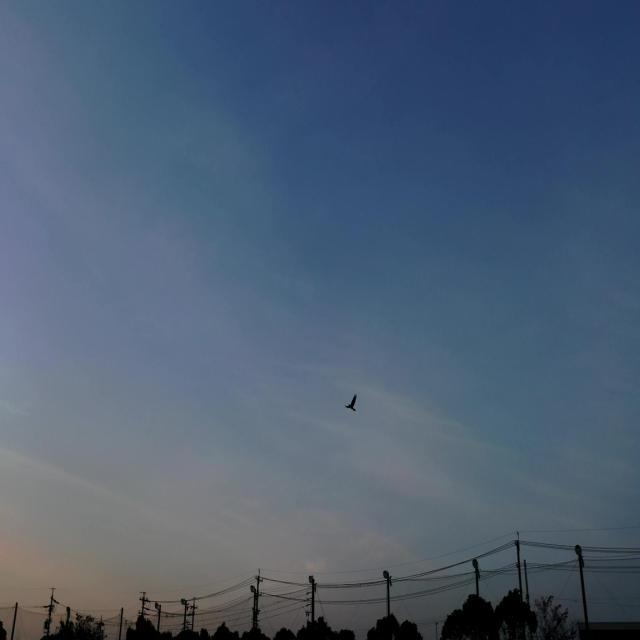Birds: (342, 390, 358, 412)
